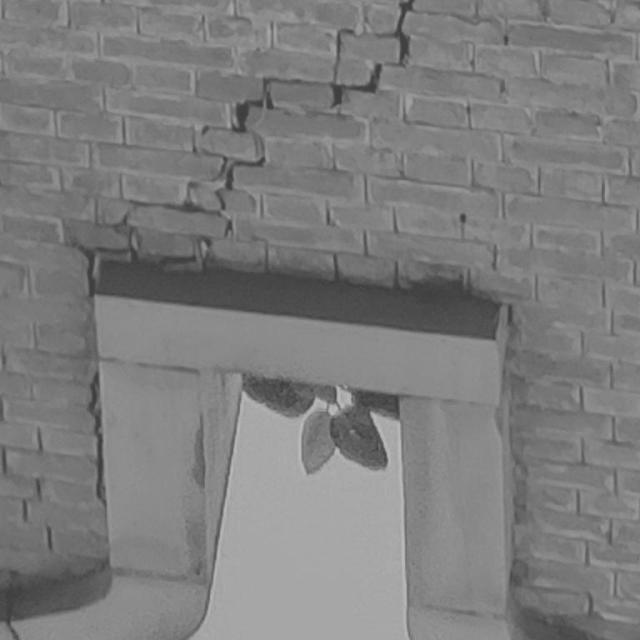crack: (73, 1, 414, 298), (86, 370, 106, 506)
